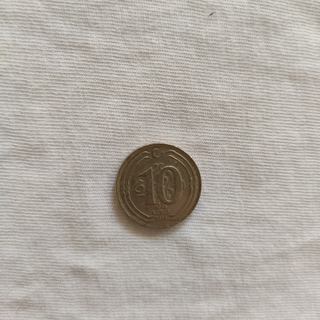10KURUS: (114, 141, 203, 232)
